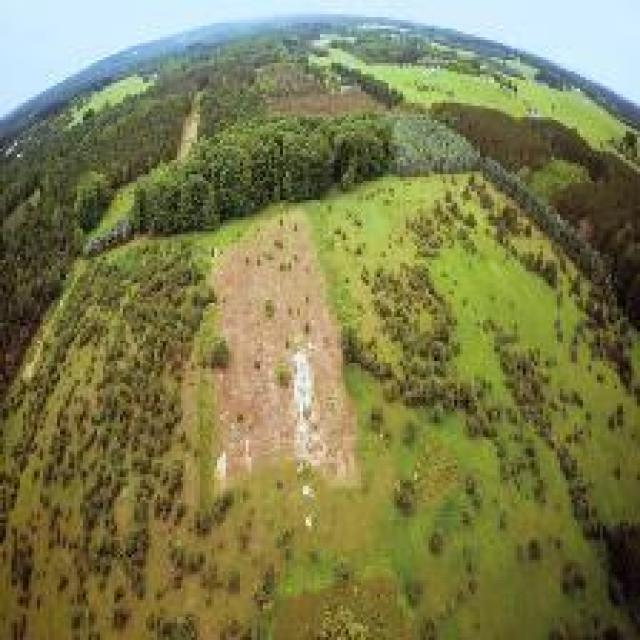other: (224, 312, 360, 482)
